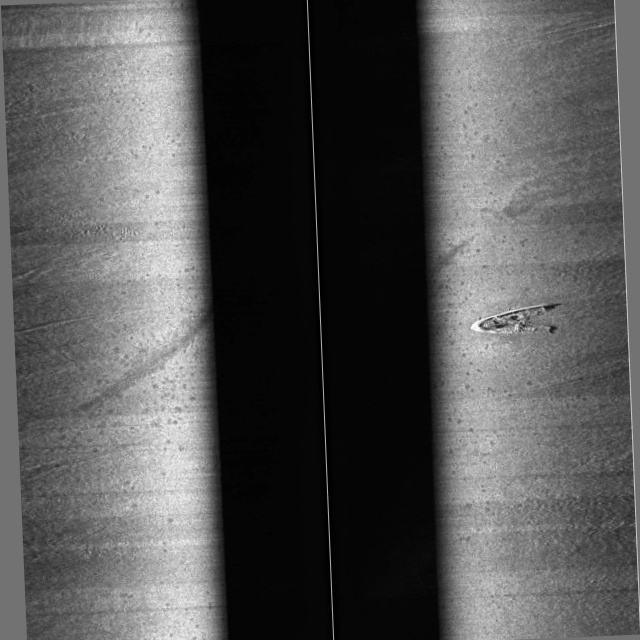Shipwreck: (468, 303, 551, 337)
